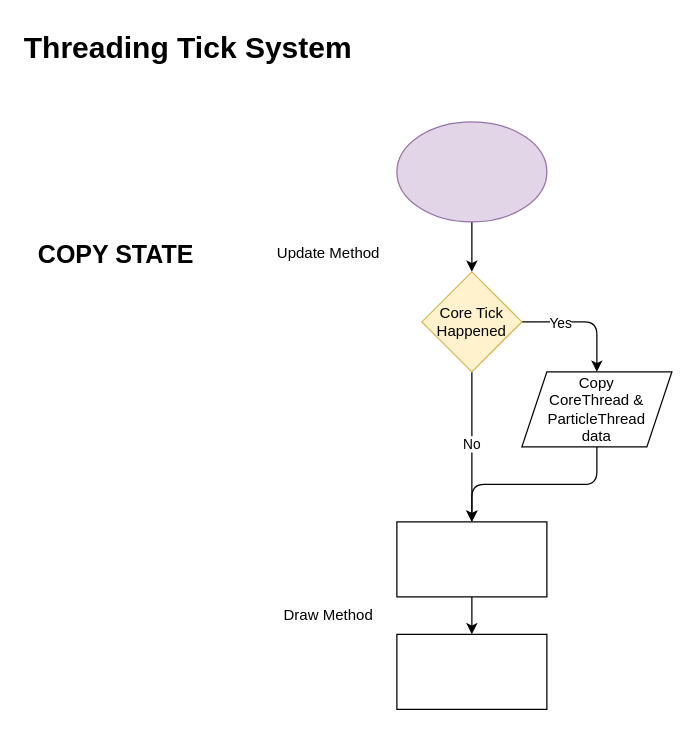
Image size: 694x731. Some labels were removed from this diagram. Each missing label, with the centre of its shape:
"Calculate Partial Tick" goes at point 471,559.
"RenderThread (Main)" goes at point 471,171.
